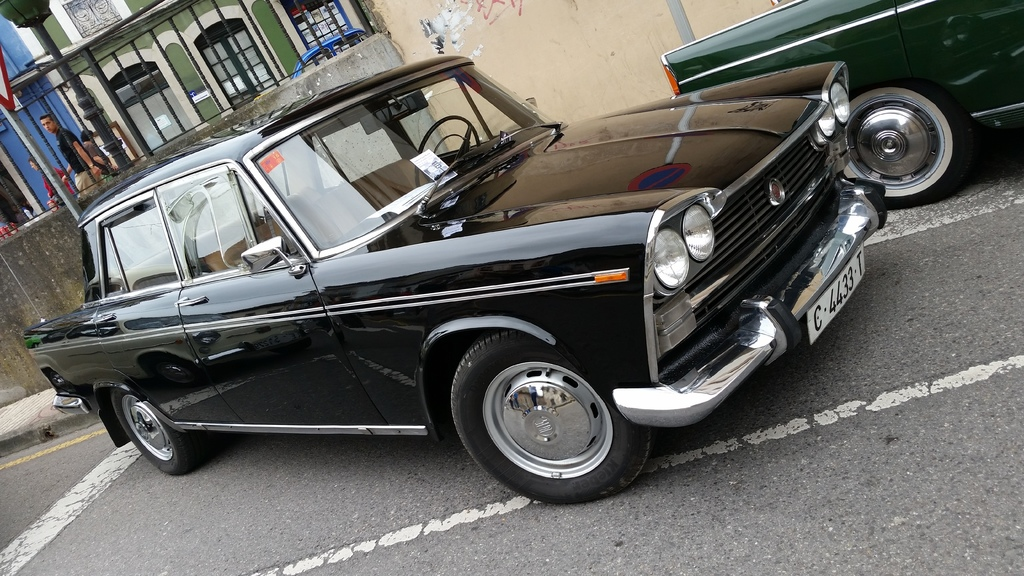Car: (24, 53, 888, 508), (664, 0, 1023, 206)
